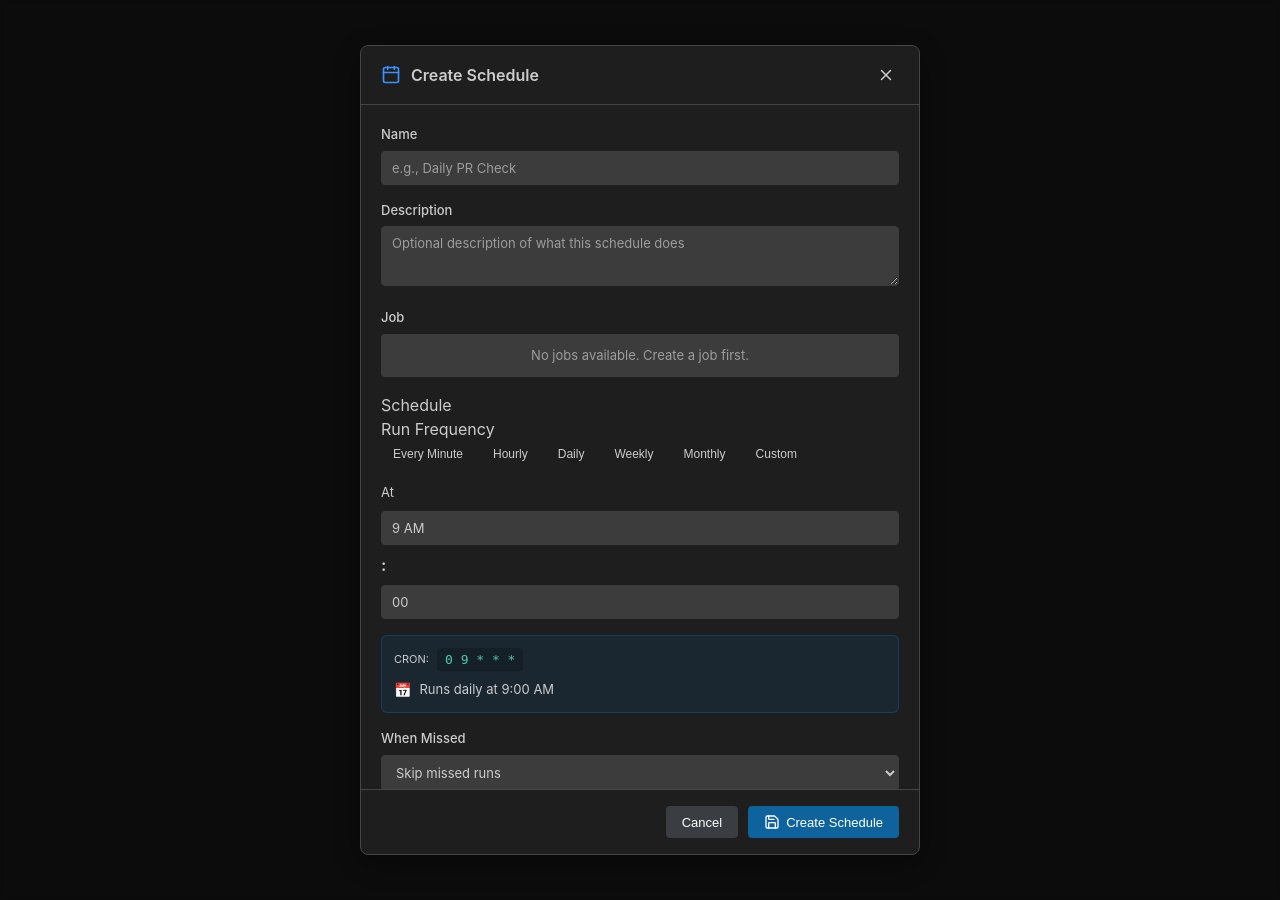
Test: ScheduleEditor › shows validation error when no job is selected
The width and height of the screenshot is (1280, 900).
In the field labelled "Name": [640, 168] box x1=381 y1=150 x2=899 y2=184, type "Test Schedule"
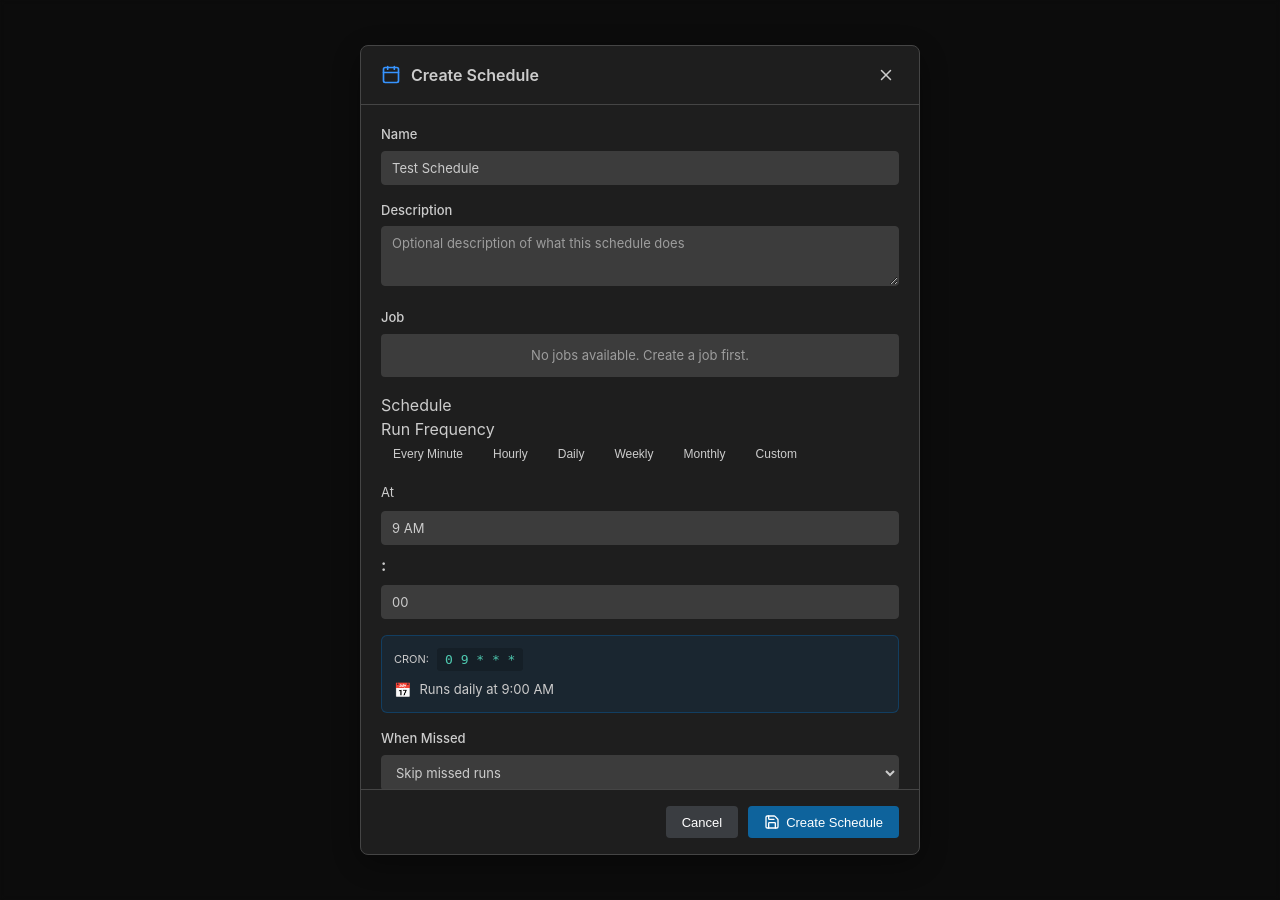
Click the button "Create Schedule": [824, 822] box x1=748 y1=806 x2=899 y2=838
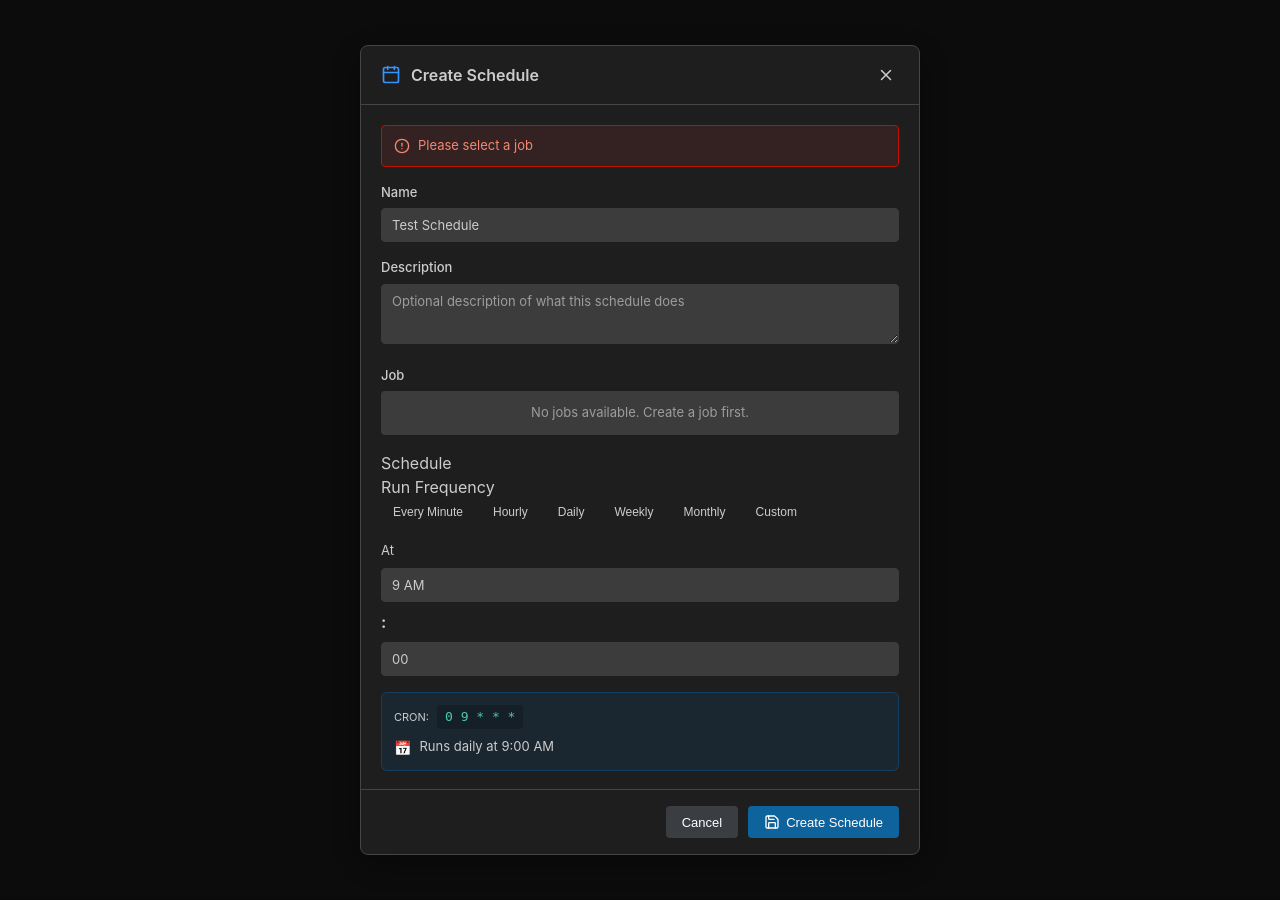
expect the text "Please select a job" is shown: met, box x1=418 y1=136 x2=533 y2=156
